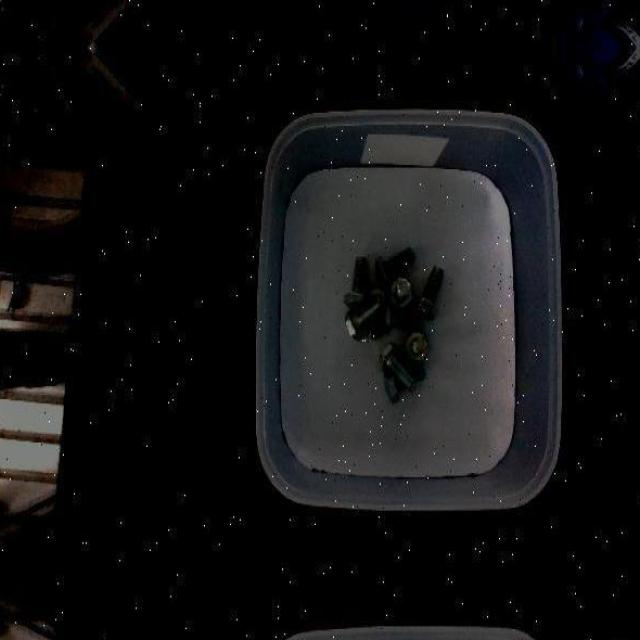screw: (377, 341, 418, 391), (346, 294, 386, 340), (413, 264, 445, 320), (376, 245, 416, 287), (404, 328, 430, 362), (391, 276, 412, 308)
